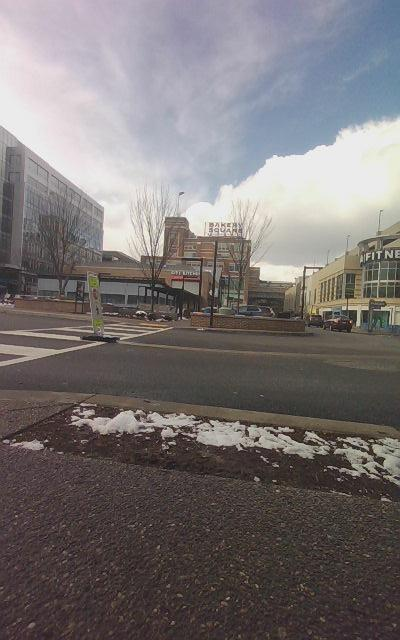curb: (0, 390, 399, 639)
road: (0, 309, 399, 428)
